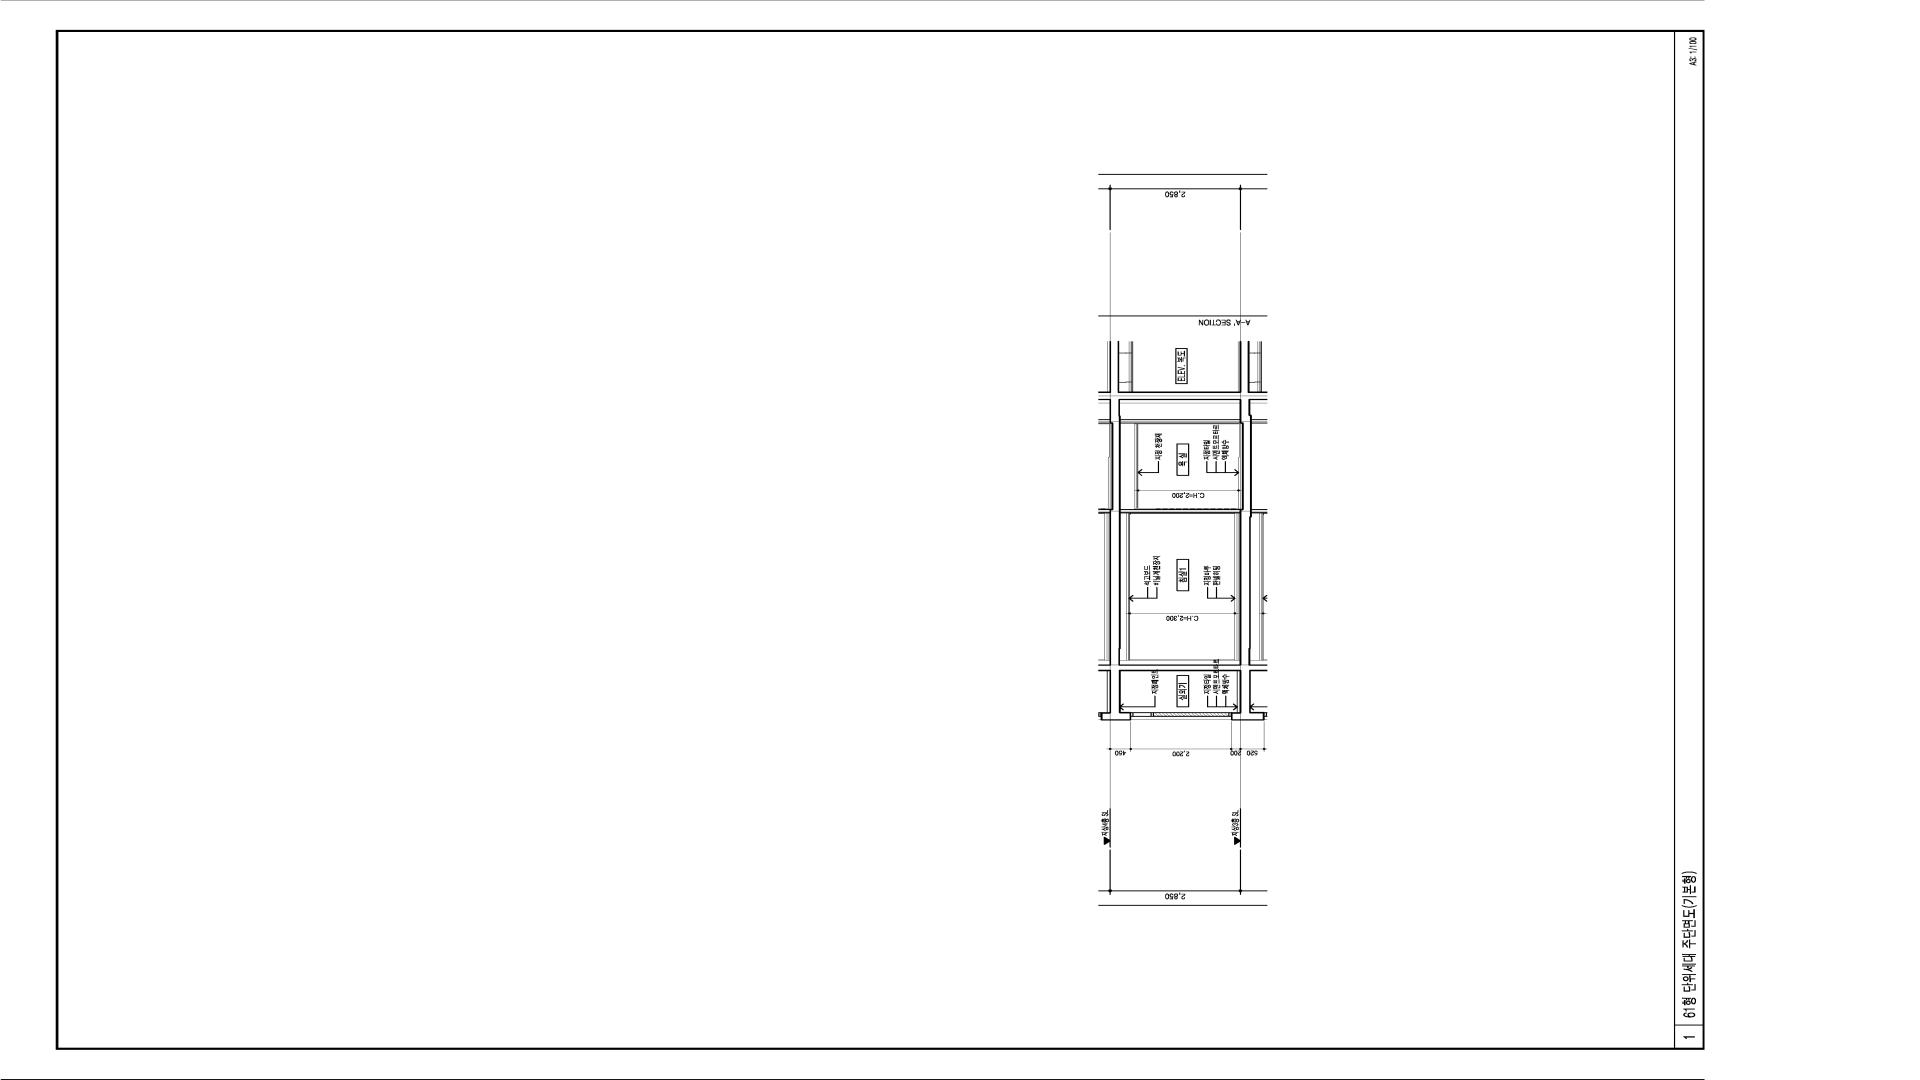wall: (1109, 342, 1240, 721), (1232, 342, 1251, 721), (1131, 712, 1230, 717), (1121, 419, 1240, 423), (1121, 509, 1240, 513)
